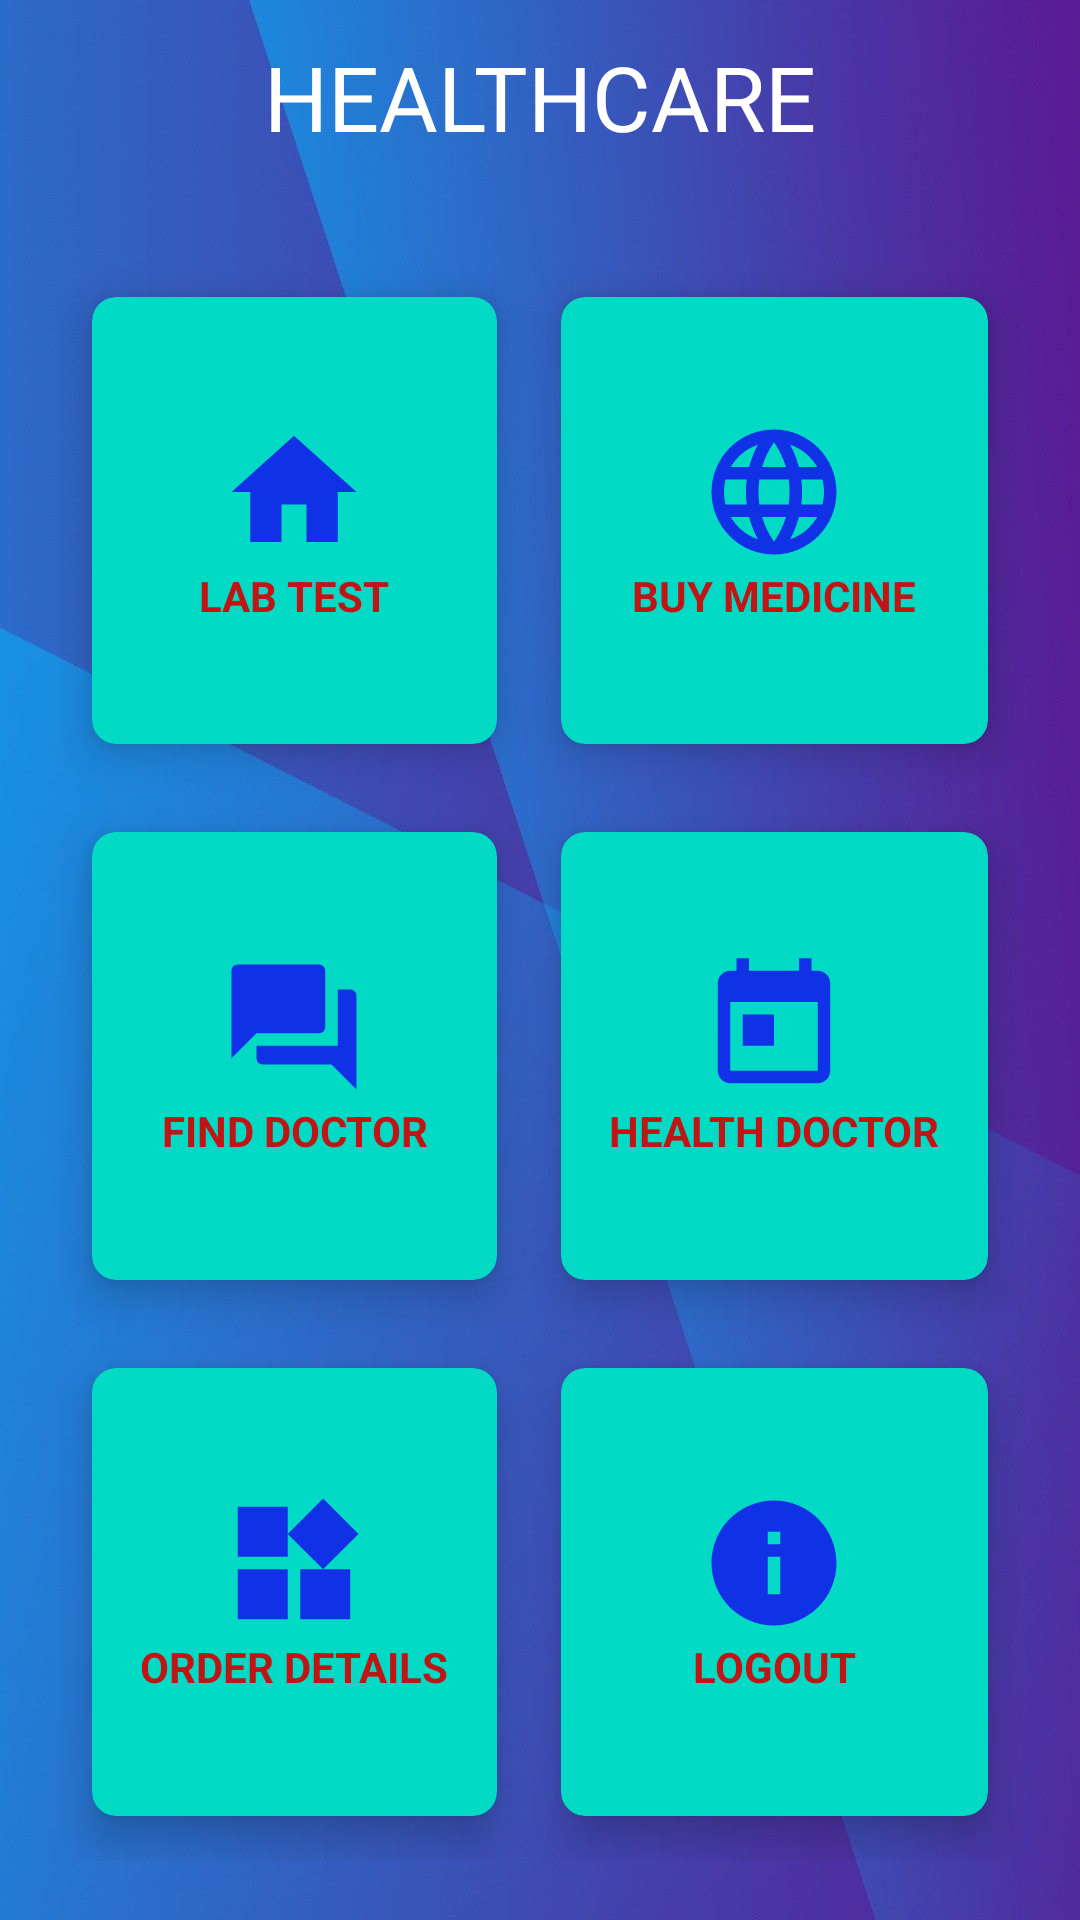

Named icons in this screenshot (1080 × 1920) and their centers, [x,y]:
calendar: [774,1021]
chat: [294,1026]
home: [294,489]
info: [774,1563]
language: [774,492]
widgets: [297,1559]
